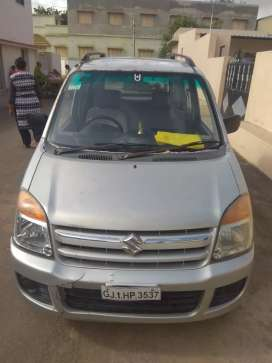license_plate: (102, 289, 159, 300)
